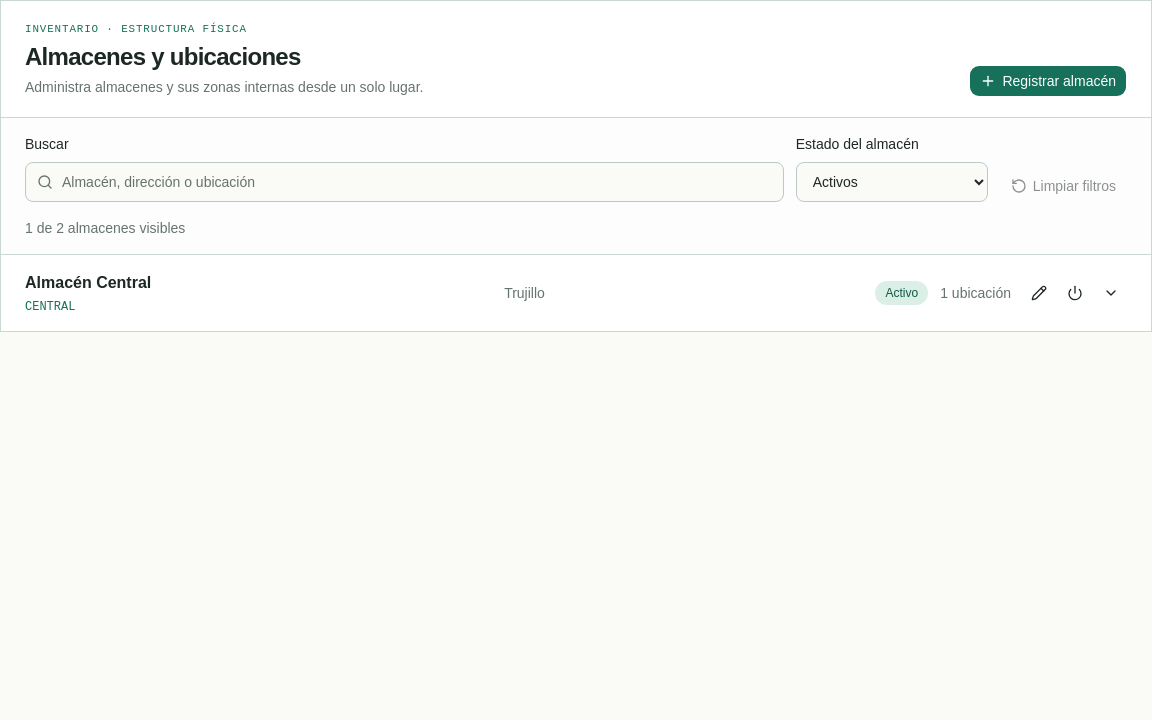
DirectorioAlmacenes › despliega únicamente las ubicaciones del almacén seleccionado
The image size is (1152, 720).
Expected: the text "General" is not shown
Step 1. Click the button named "Mostrar ubicaciones de Almacén Central" → (1111, 293), box x1=1095 y1=277 x2=1127 y2=309
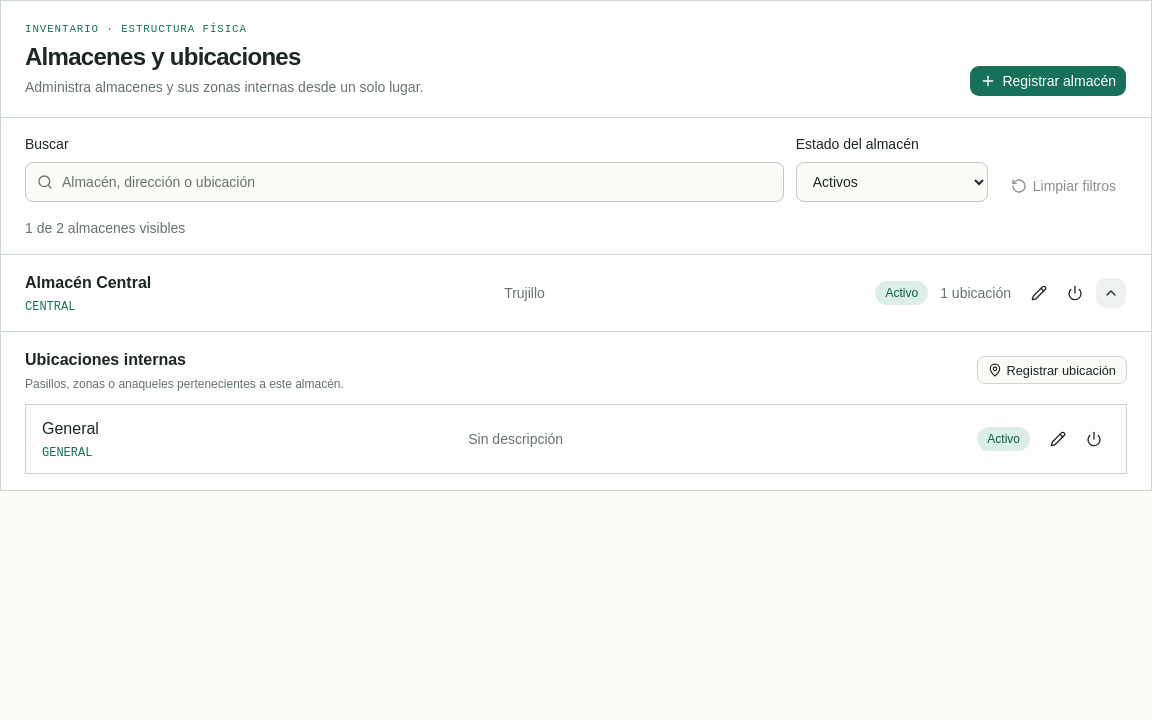
Expected: the button named "Ocultar ubicaciones de Almacén Central" is expanded, x1=1095 y1=277 x2=1127 y2=309
Expected: the text "General" is shown, x1=42 y1=420 x2=99 y2=437
